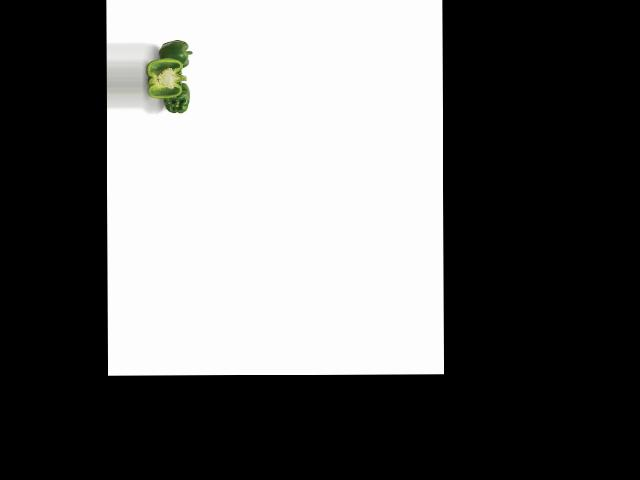bell_pepper: (160, 79, 192, 116)
